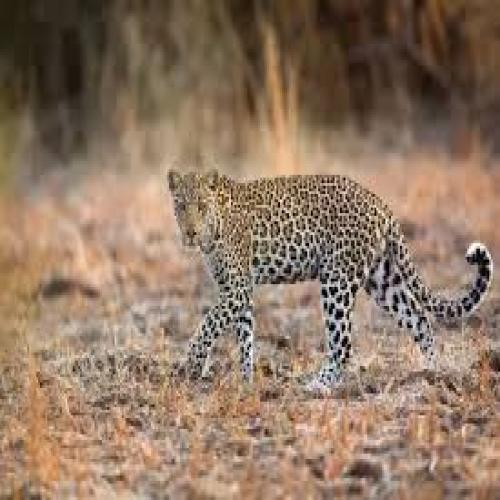jaguar_not-endangered: (168, 167, 496, 386)
